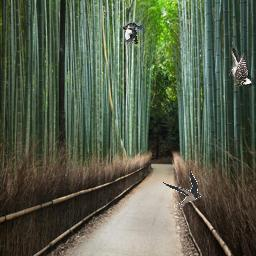Swallow: (163, 169, 202, 209)
Woodpecker: (227, 47, 255, 87), (120, 17, 144, 47)
